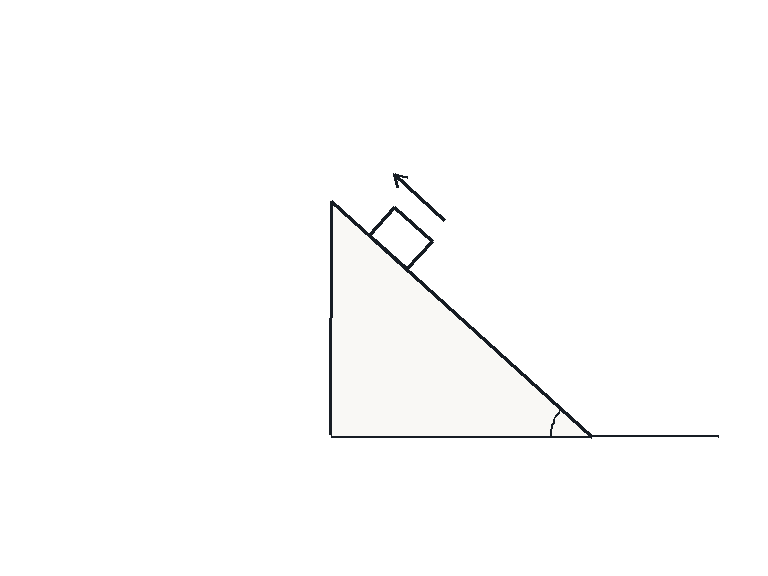block: (367, 205, 434, 271)
ramp: (329, 199, 593, 437)
